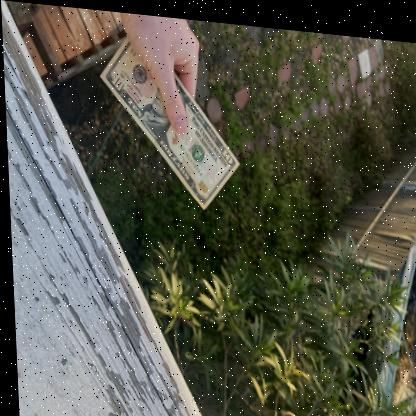ten-front: (99, 22, 238, 206)
